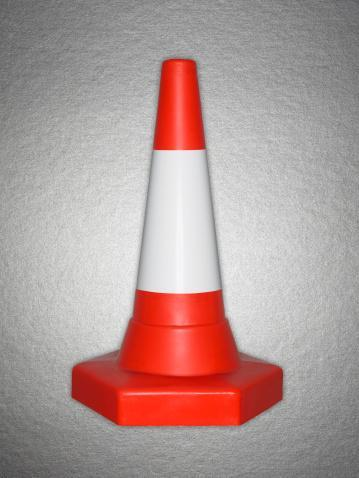Cone: (70, 58, 283, 434)
